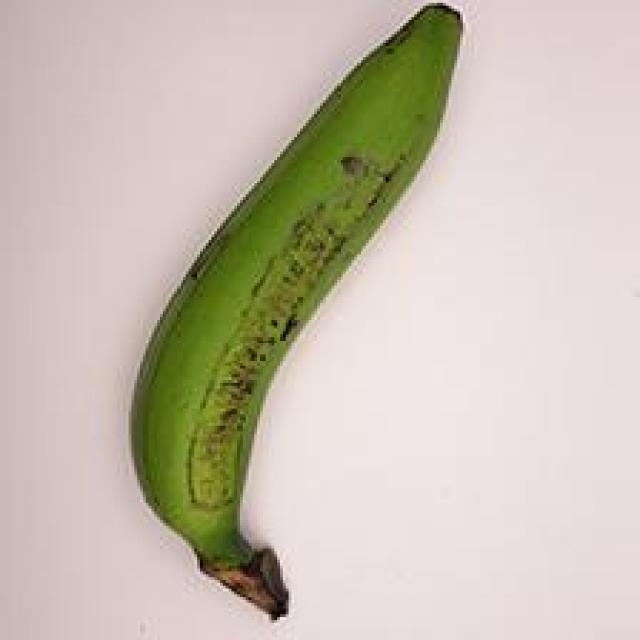Raw: (63, 0, 488, 626)
